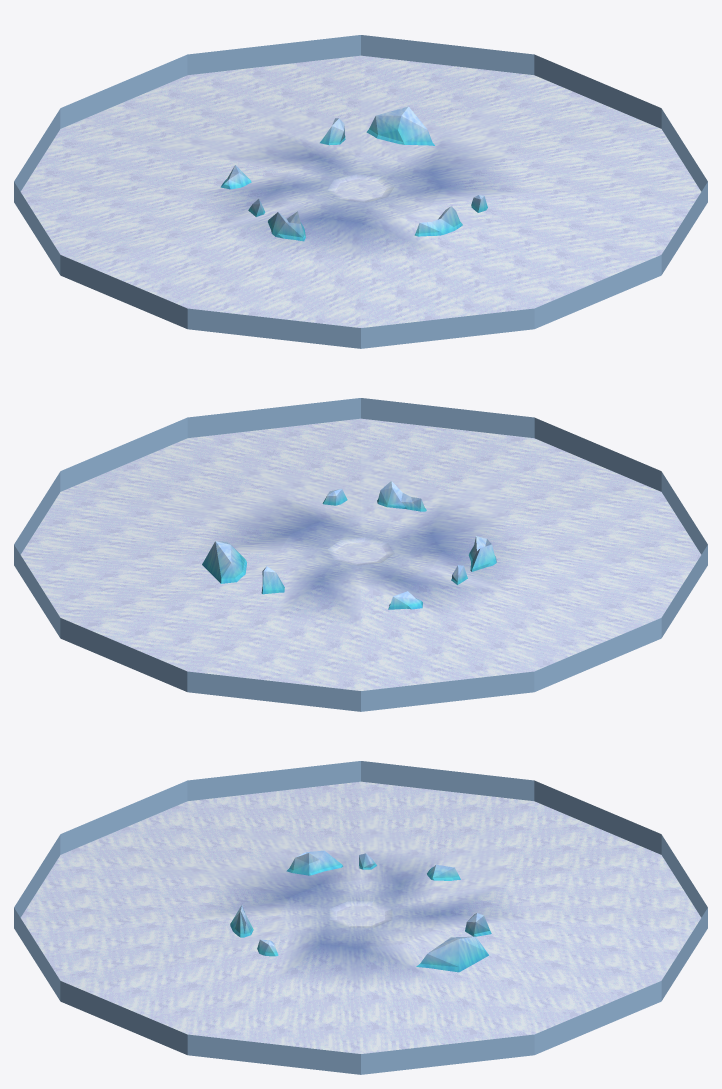
The model's file is ex_wario_all.glb.
The picture shows the model from 3 angles, top to bottom: view 1: azimuth 30°, elevation 25°; view 2: azimuth 150°, elevation 25°; view 3: azimuth 270°, elevation 25°; orthographic projection.
Parts seen in each view (by area): view 1: ex_wario_all; view 2: ex_wario_all; view 3: ex_wario_all.
Boxes of the visible parts, bbox=[...] form: ex_wario_all: bbox=[14, 35, 707, 348]; ex_wario_all: bbox=[14, 398, 707, 711]; ex_wario_all: bbox=[14, 761, 707, 1074].
Bounding box in the file's own units: 11.35 × 0.75 × 11.35.
3 materials, 3 textured.
